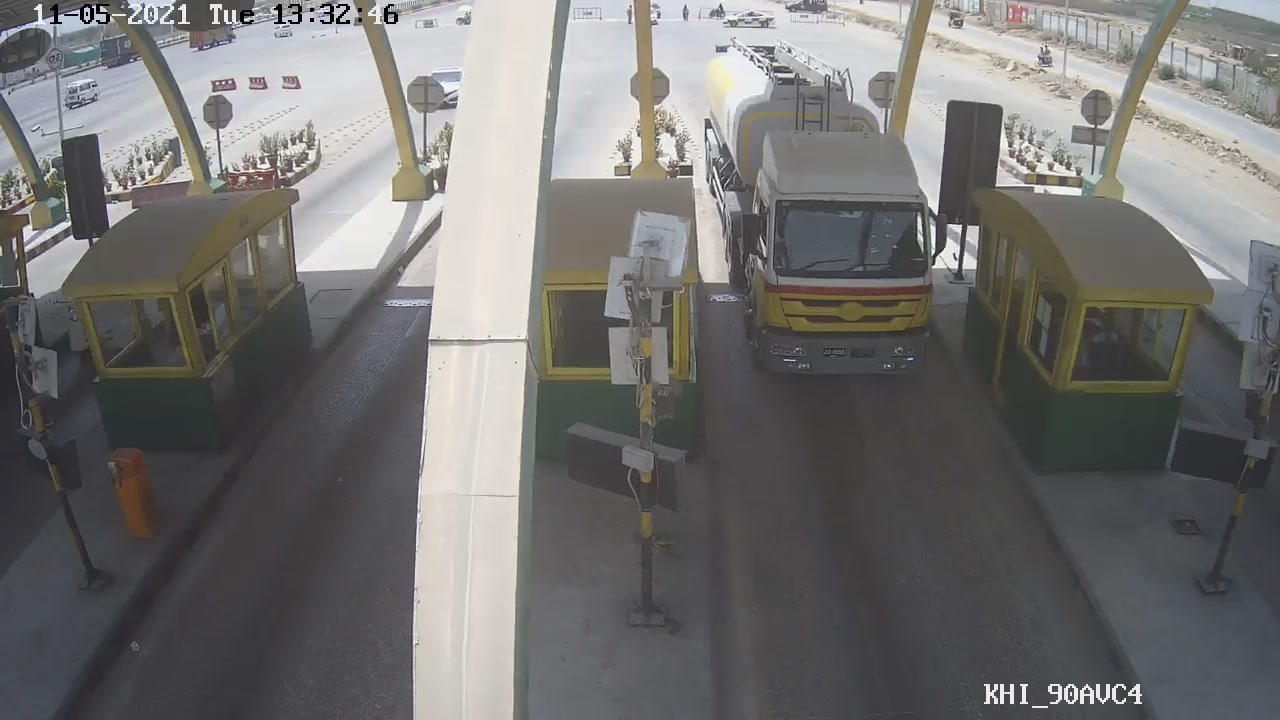F6: (705, 27, 951, 385)
